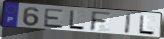6: (22, 7, 41, 28)
E: (43, 8, 66, 30)
F: (88, 10, 113, 32)
I: (124, 13, 133, 35)
L: (68, 9, 86, 31), (138, 14, 156, 36)
